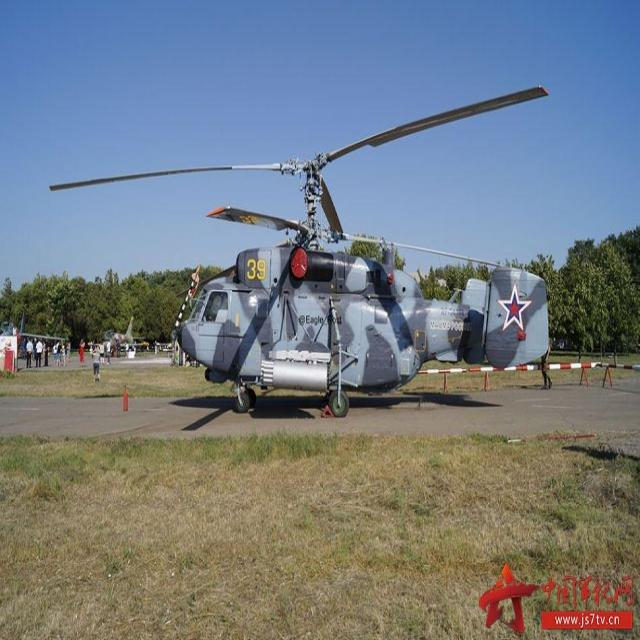MIL_HELO: (36, 76, 554, 426)
